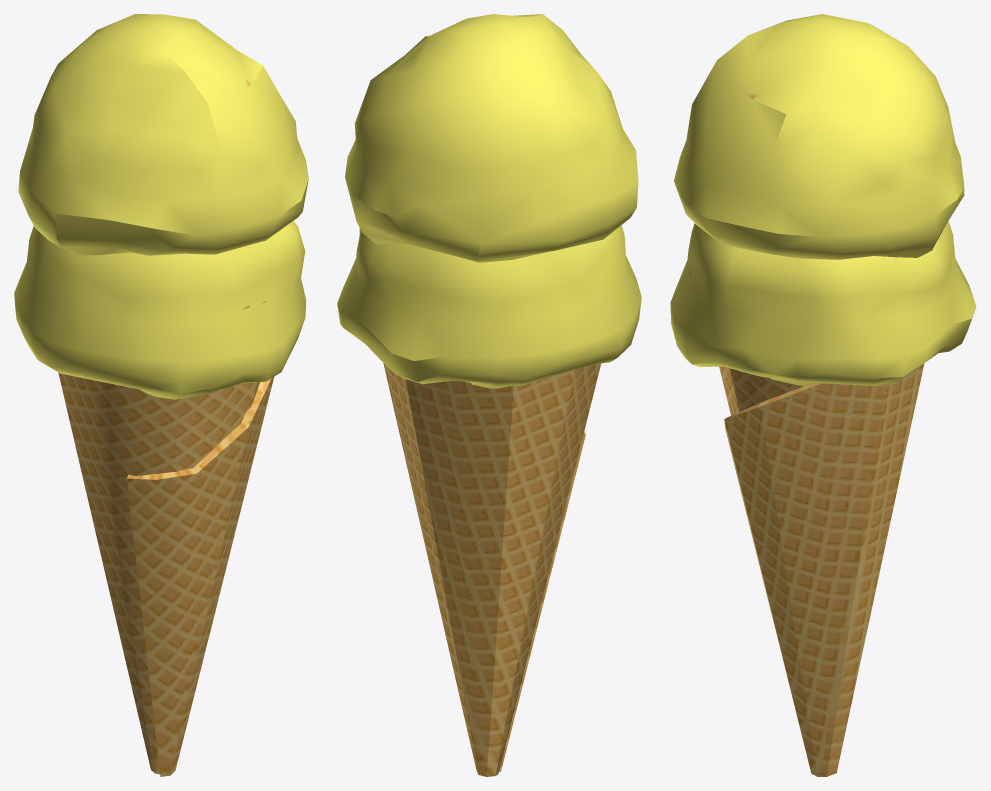
3 views of the same model, side by side, from view 1: azimuth 30°, elevation 25°; view 2: azimuth 150°, elevation 25°; view 3: azimuth 270°, elevation 25° (orthographic).
Visible parts, largest first — view 1: Object_3; view 2: Object_3; view 3: Object_3.
Part boxes in pixels (<box>): Object_3: <box>14,14,308,776</box>; Object_3: <box>337,14,641,776</box>; Object_3: <box>670,14,976,776</box>.
Bounding box in the file's own units: 0.1197 × 0.333 × 0.1236.
Materials: 1 (1 with a texture image).
